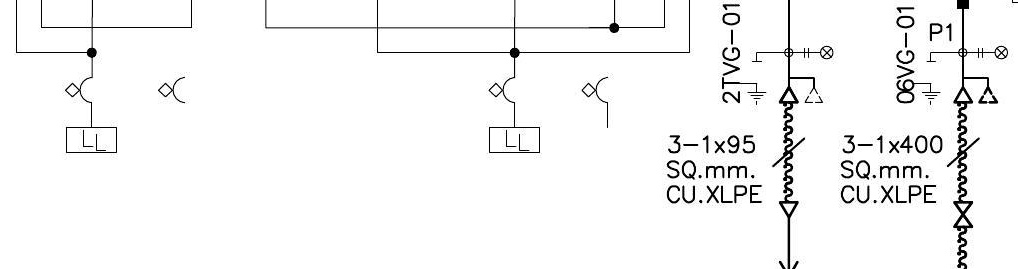22_gs: (913, 60, 941, 106), (739, 60, 766, 106)
22_ll: (977, 45, 1009, 60), (803, 45, 834, 60)
LL: (487, 125, 542, 155), (65, 126, 119, 155)
terminator_single: (778, 200, 801, 219)
terminator_splicing_kits: (952, 201, 974, 229)
terminator_w_future: (778, 75, 825, 104), (952, 76, 999, 105)
